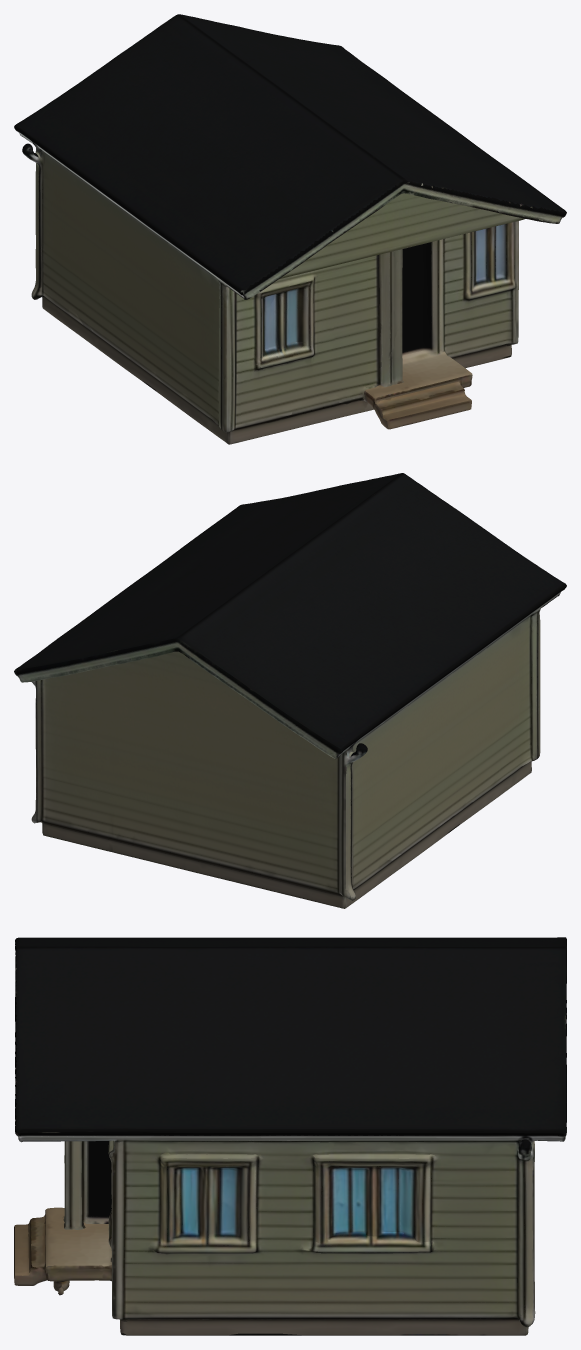
File: house-timber-bungalow.glb
3 renders of one model, top to bottom at view 1: azimuth 30°, elevation 25°; view 2: azimuth 150°, elevation 25°; view 3: azimuth 270°, elevation 25°, orthographic. The views are drawn at different scales.
Parts seen in each view (by area): view 1: tmpxdkayd8d.ply; view 2: tmpxdkayd8d.ply; view 3: tmpxdkayd8d.ply.
Boxes of the visible parts, bbox=[...] form: tmpxdkayd8d.ply: bbox=[14, 14, 566, 444]; tmpxdkayd8d.ply: bbox=[14, 473, 566, 908]; tmpxdkayd8d.ply: bbox=[14, 937, 566, 1335].
Size of the model in its own units: 1.71 by 1.19 by 1.96.
1 material, 1 textured.
